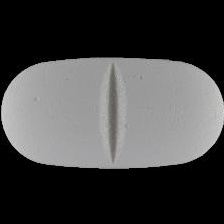63187-231: (0, 0, 224, 224)
